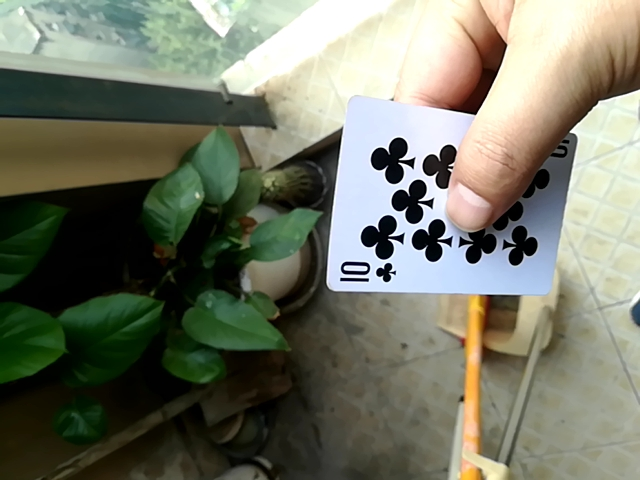mh 10: (327, 97, 550, 296)
